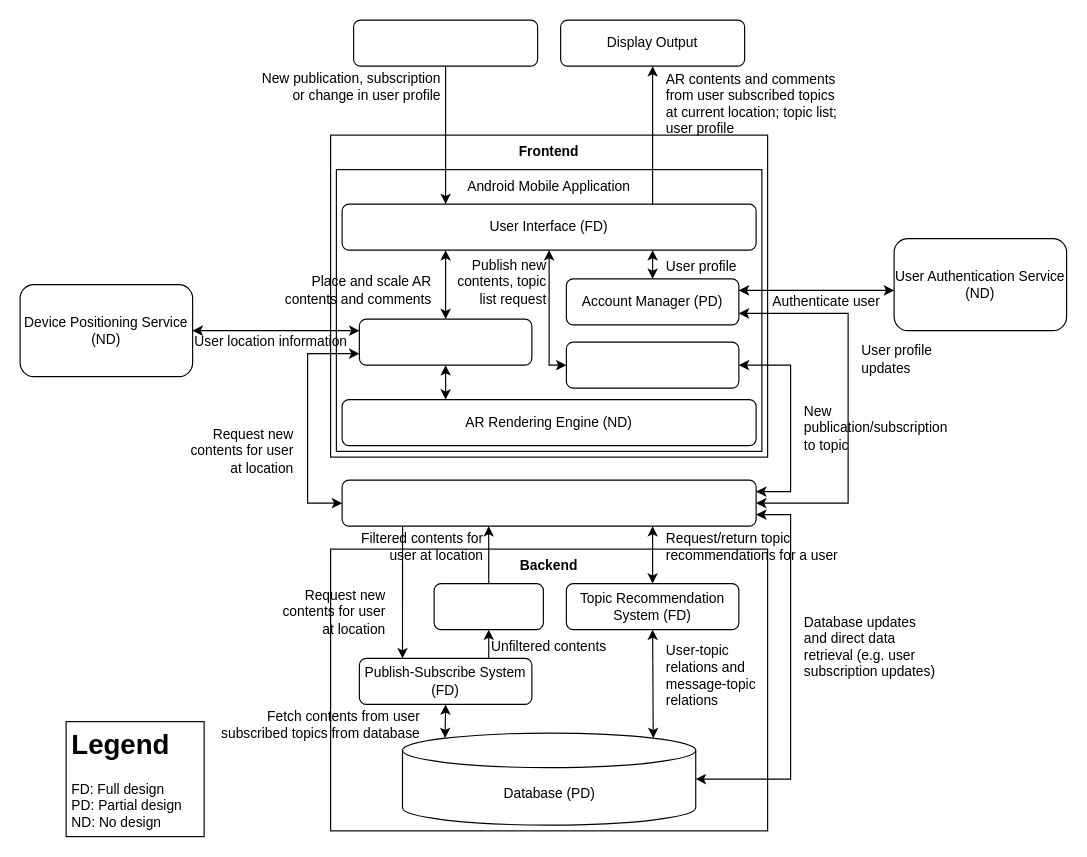
The diagram is 1087 pixels wide and 857 high, and some of its shapes have lost their labels. The centre of each missing label's shape, as x and y in pixels:
AR Content Manager (PD): point (445, 341)
Content Filtering System (FD): point (488, 606)
Message Manager (FD): point (652, 364)
Middleware (FD): point (548, 502)
User Input: point (445, 42)
